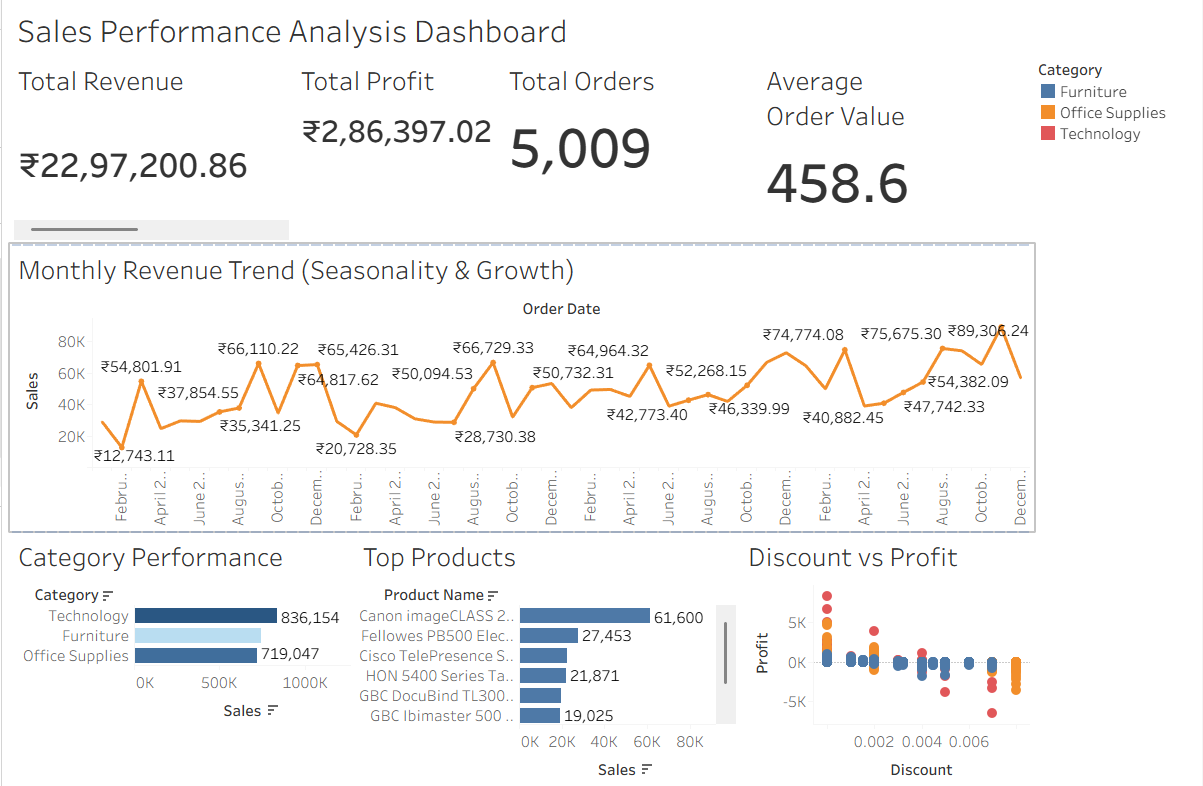

The dashboard page shown, as its layout file describes it:
{"tool":"tableau","page":{"name":"Sales Performance Analysis Dashboard","canvas":[1000,1000],"units":"permille","ordinal":0},"visuals":[{"type":"title","box":[6.7,10,986.7,62.4]},{"type":"worksheet","title":"Total Revenue","mark":"Automatic","box":[6.7,72.3,221.2,235.7]},{"type":"worksheet","title":"Total Profit","mark":"Automatic","box":[227.9,72.3,196.7,235.7]},{"type":"worksheet","title":"Total Orders","mark":"Automatic","box":[424.6,72.3,214.2,235.7]},{"type":"worksheet","title":"Avg Order Value","mark":"Automatic","box":[638.8,72.3,221.2,235.7]},{"type":"legend","title":"Discount vs Profit","param":"[federated.1nwqk6e12jntig1ehi6za0kjn2eh].[none:category:nk]","box":[860,72.3,133.3,116]},{"type":"worksheet","title":"Monthly Trends","mark":"Line","rows":["sales"],"cols":["order_date"],"box":[6.7,308,853.3,341.6]},{"type":"worksheet","title":"Category Performance","mark":"Automatic","rows":["category"],"cols":["sales"],"box":[6.7,649.6,287.5,340.4]},{"type":"worksheet","title":"Top Products","mark":"Automatic","rows":["product_name"],"cols":["sales"],"box":[294.2,649.6,320.8,340.4]},{"type":"worksheet","title":"Discount vs Profit","mark":"Circle","rows":["profit"],"cols":["discount"],"box":[615,649.6,245,340.4]}]}

Visuals, with their boxes on the dashboard's canvas, which has no fixed pixel size, in thousandths of its width and height (x1, y1, x2, y2). These are canvas units, not pixel positions in the 1203x786 screenshot, which may show the page scaled, cropped or inside an application window:
title: [left=7, top=10, right=993, bottom=72]
"Total Revenue" worksheet: [left=7, top=72, right=228, bottom=308]
"Total Profit" worksheet: [left=228, top=72, right=425, bottom=308]
"Total Orders" worksheet: [left=425, top=72, right=639, bottom=308]
"Avg Order Value" worksheet: [left=639, top=72, right=860, bottom=308]
"Discount vs Profit" legend: [left=860, top=72, right=993, bottom=188]
"Monthly Trends" worksheet (Line marks): [left=7, top=308, right=860, bottom=650]
"Category Performance" worksheet: [left=7, top=650, right=294, bottom=990]
"Top Products" worksheet: [left=294, top=650, right=615, bottom=990]
"Discount vs Profit" worksheet (Circle marks): [left=615, top=650, right=860, bottom=990]
